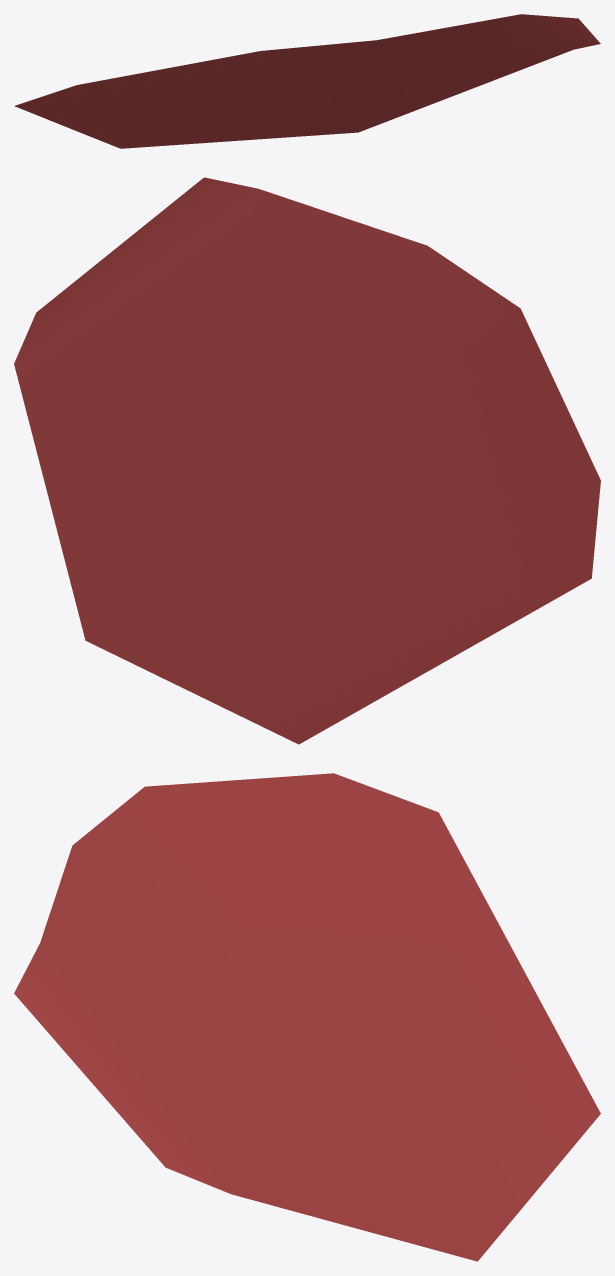
File: longus-capitis-muscle-or.glb
3 views of the same model, one above another, from view 1: azimuth 30°, elevation 25°; view 2: azimuth 150°, elevation 25°; view 3: azimuth 270°, elevation 25° (orthographic). The views are drawn at different scales.
Parts seen in each view (by area): view 1: Longus capitis muscle.or; view 2: Longus capitis muscle.or; view 3: Longus capitis muscle.or.
Boxes of the visible parts, <box> form: Longus capitis muscle.or: <box>14,14,600,148</box>; Longus capitis muscle.or: <box>14,177,600,744</box>; Longus capitis muscle.or: <box>14,773,600,1261</box>.
Bounding box in the file's own units: 0.00833 × 0.00353 × 0.00565.
